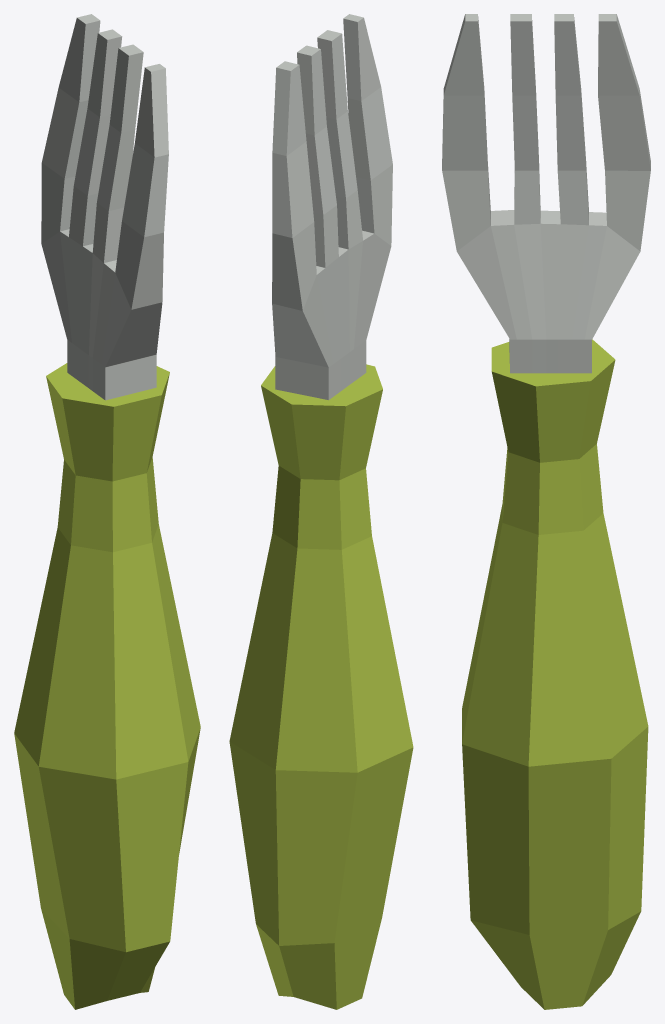
The model's file is fork-green.fbx.
3 views of the same model, side by side, from view 1: azimuth 30°, elevation 25°; view 2: azimuth 150°, elevation 25°; view 3: azimuth 270°, elevation 25° (orthographic). The views are drawn at different scales.
Visible parts, largest first — view 1: fork.001; view 2: fork.001; view 3: fork.001.
Boxes of the visible parts, x1=… form: fork.001: x1=14, y1=14, x2=200, y2=1009; fork.001: x1=229, y1=14, x2=413, y2=1009; fork.001: x1=442, y1=14, x2=650, y2=1009.
Bounding box in the file's own units: 142 × 800 × 155.
